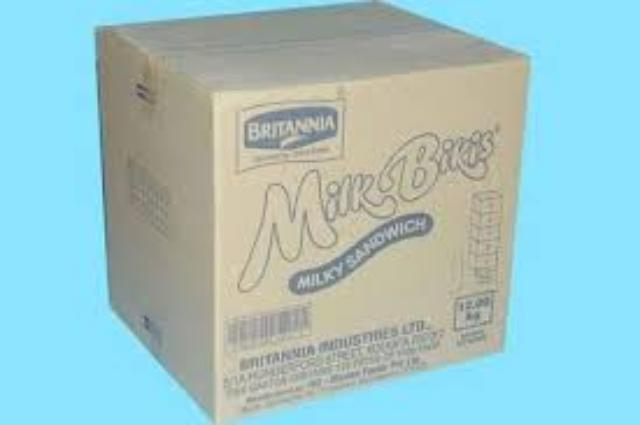cardboard paper: (95, 0, 524, 419)
